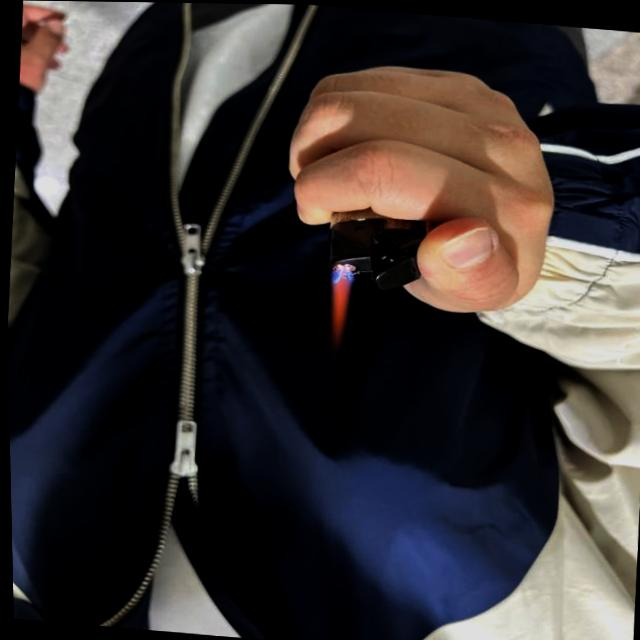Fire: (324, 267, 357, 346)
